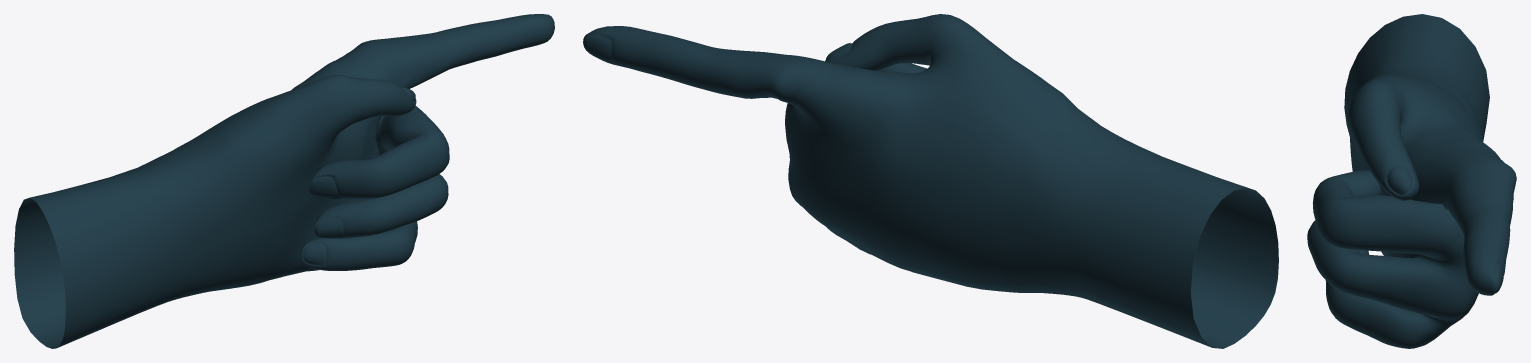
File: hand_right.obj
3 renders of one model, left to right at view 1: azimuth 30°, elevation 25°; view 2: azimuth 150°, elevation 25°; view 3: azimuth 270°, elevation 25°, orthographic. The views are drawn at different scales.
Visible parts, largest first — view 1: hand_right; view 2: hand_right; view 3: hand_right.
Part boxes in pixels (x1,y1,x2,y2): hand_right: (14, 14, 554, 348); hand_right: (583, 14, 1278, 348); hand_right: (1307, 14, 1516, 348).
Bounding box in the file's own units: 0.2311 × 0.0843 × 0.0678.
